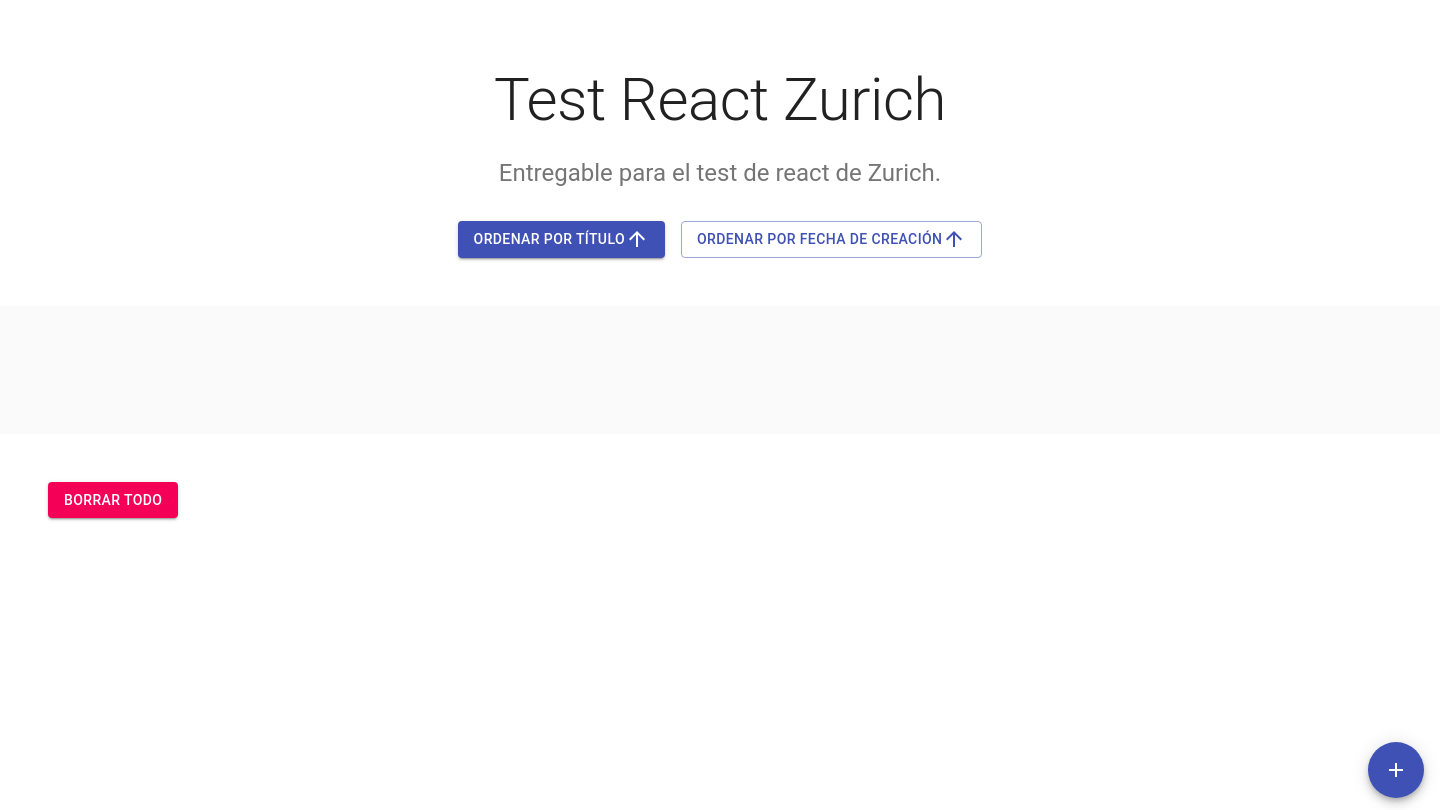
Scenario: clicking button renders modal
This screenshot has width=1440, height=810.
Click the button with id "add-card-fab": (1396, 770) [1368, 742, 1424, 798]
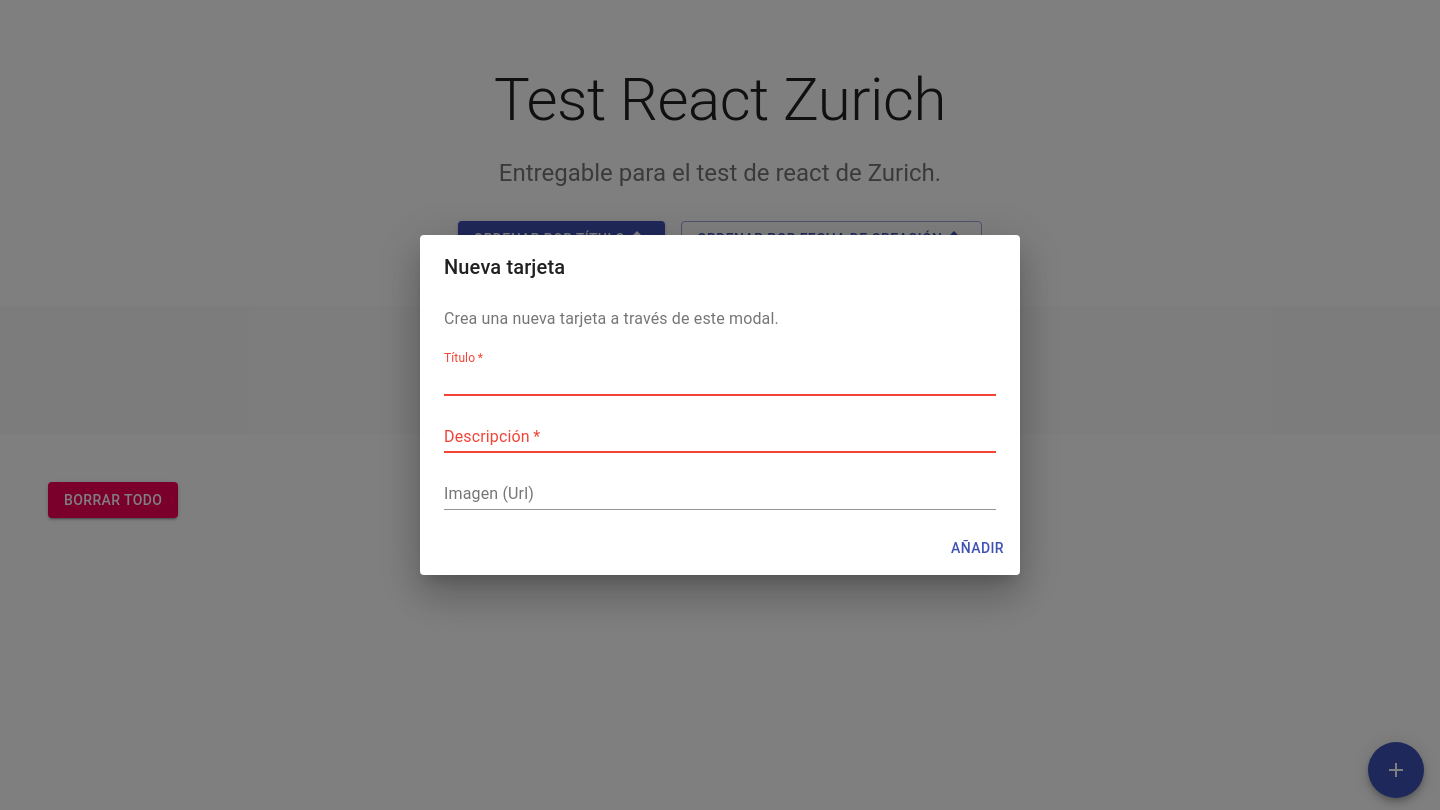
Check: the dialog labelled "Nueva tarjeta" is shown, box [420, 235, 1020, 575]
